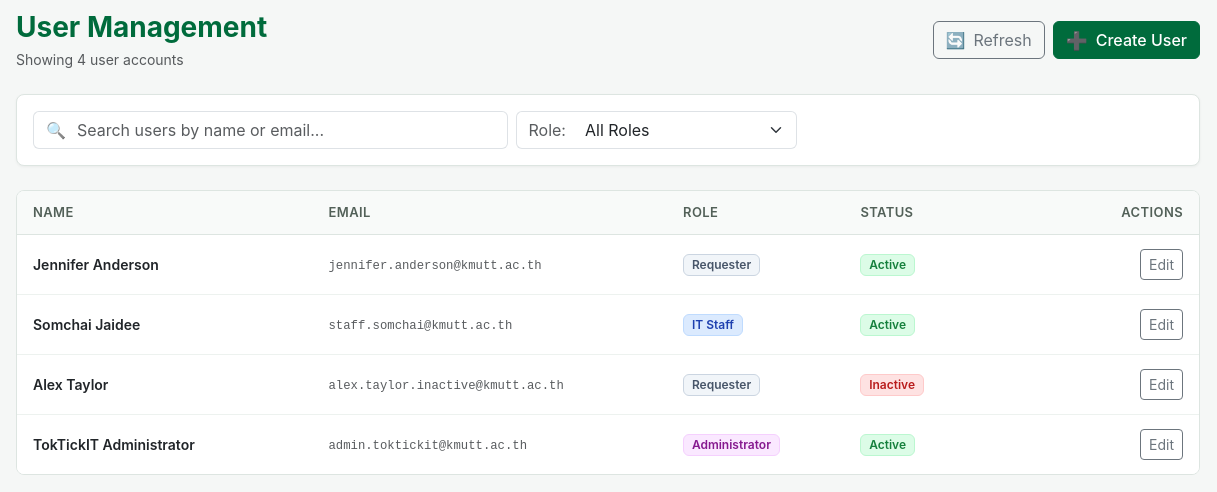
Test: Administrator User Management Component (UI-09, UI-10) › UI-09: Screen rendering, filtering, creation and error states › filters user table by typing in the search input
Check: the text "Jennifer Anderson" is shown, box x1=33 y1=256 x2=159 y2=273
Type "Somchai" into the field with test id "search-user-input" at (292, 130), box x1=77 y1=111 x2=508 y2=149
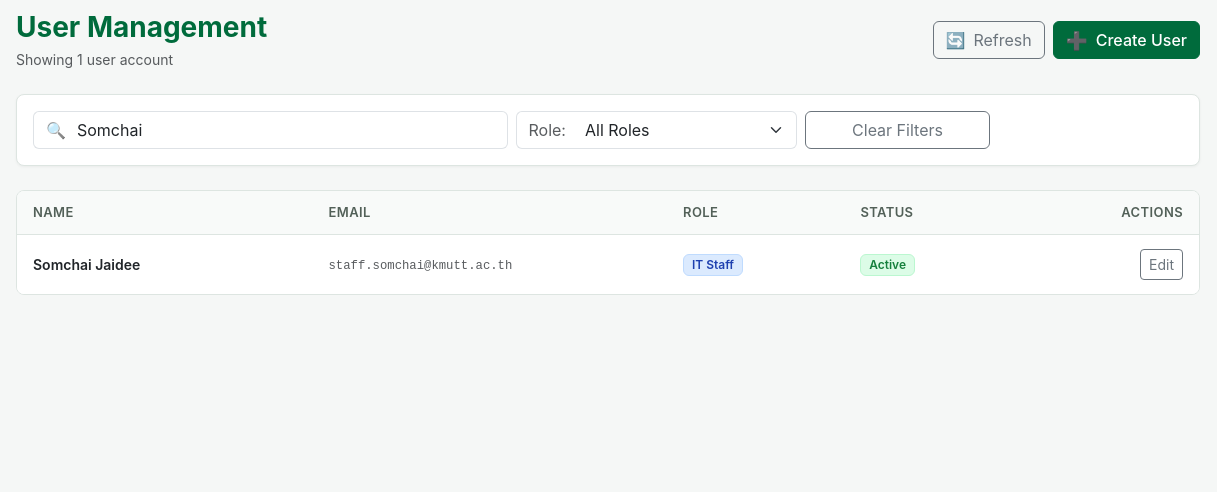
Check: the text with test id "user-name-5" reads "Somchai Jaidee", box x1=33 y1=256 x2=140 y2=273
Check: the text with test id "user-name-1" is gone
Check: the text with test id "user-count" reads "Showing 1 user account", box x1=16 y1=51 x2=173 y2=68
